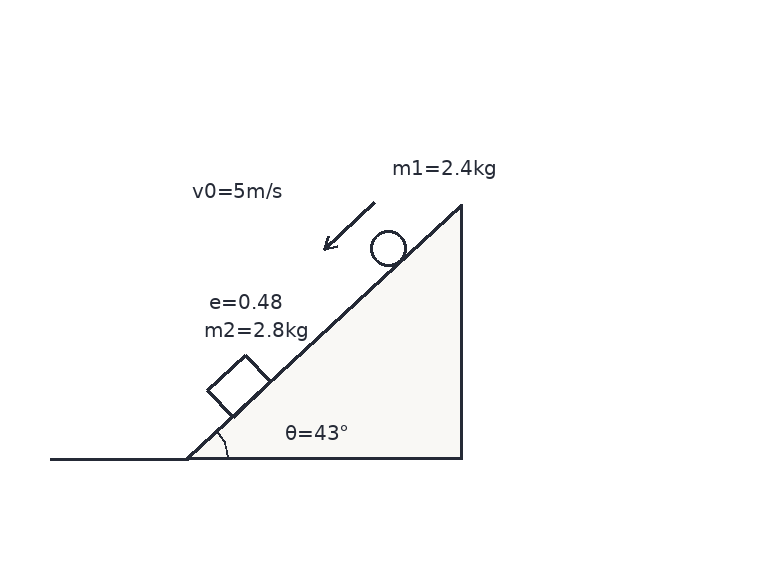ball: (368, 228, 408, 268)
block: (205, 353, 272, 419)
ramp: (186, 203, 462, 461)
